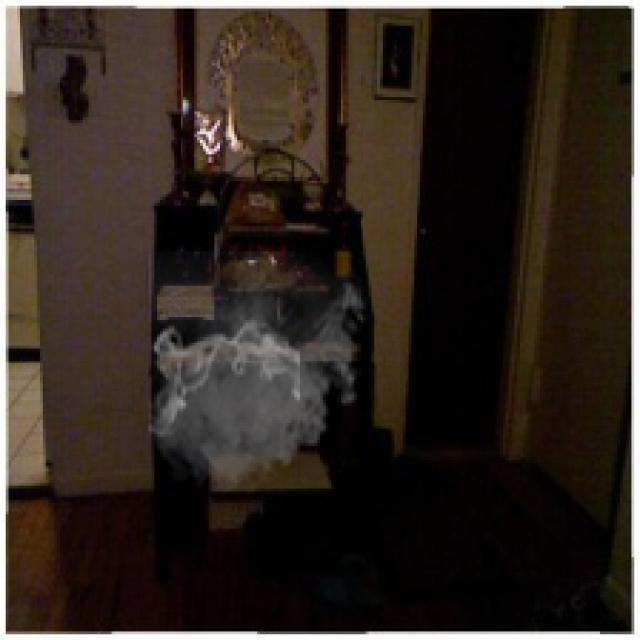Smoke: (146, 251, 372, 503)
